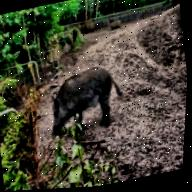boar: (41, 53, 127, 147)
